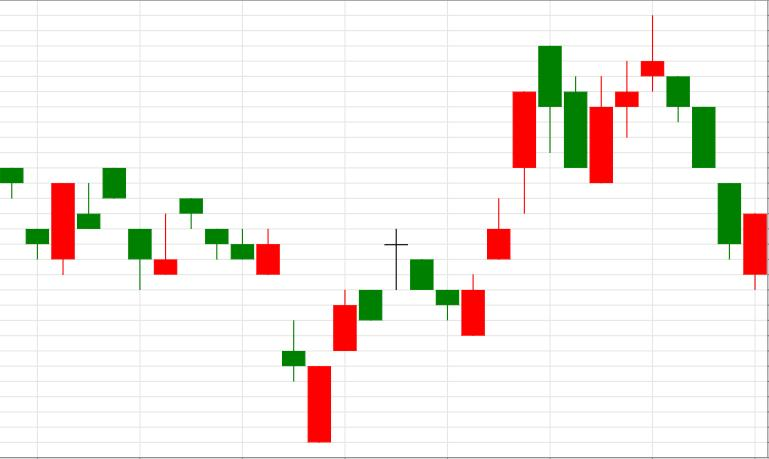three_black_crows_fall: (589, 14, 741, 259)
